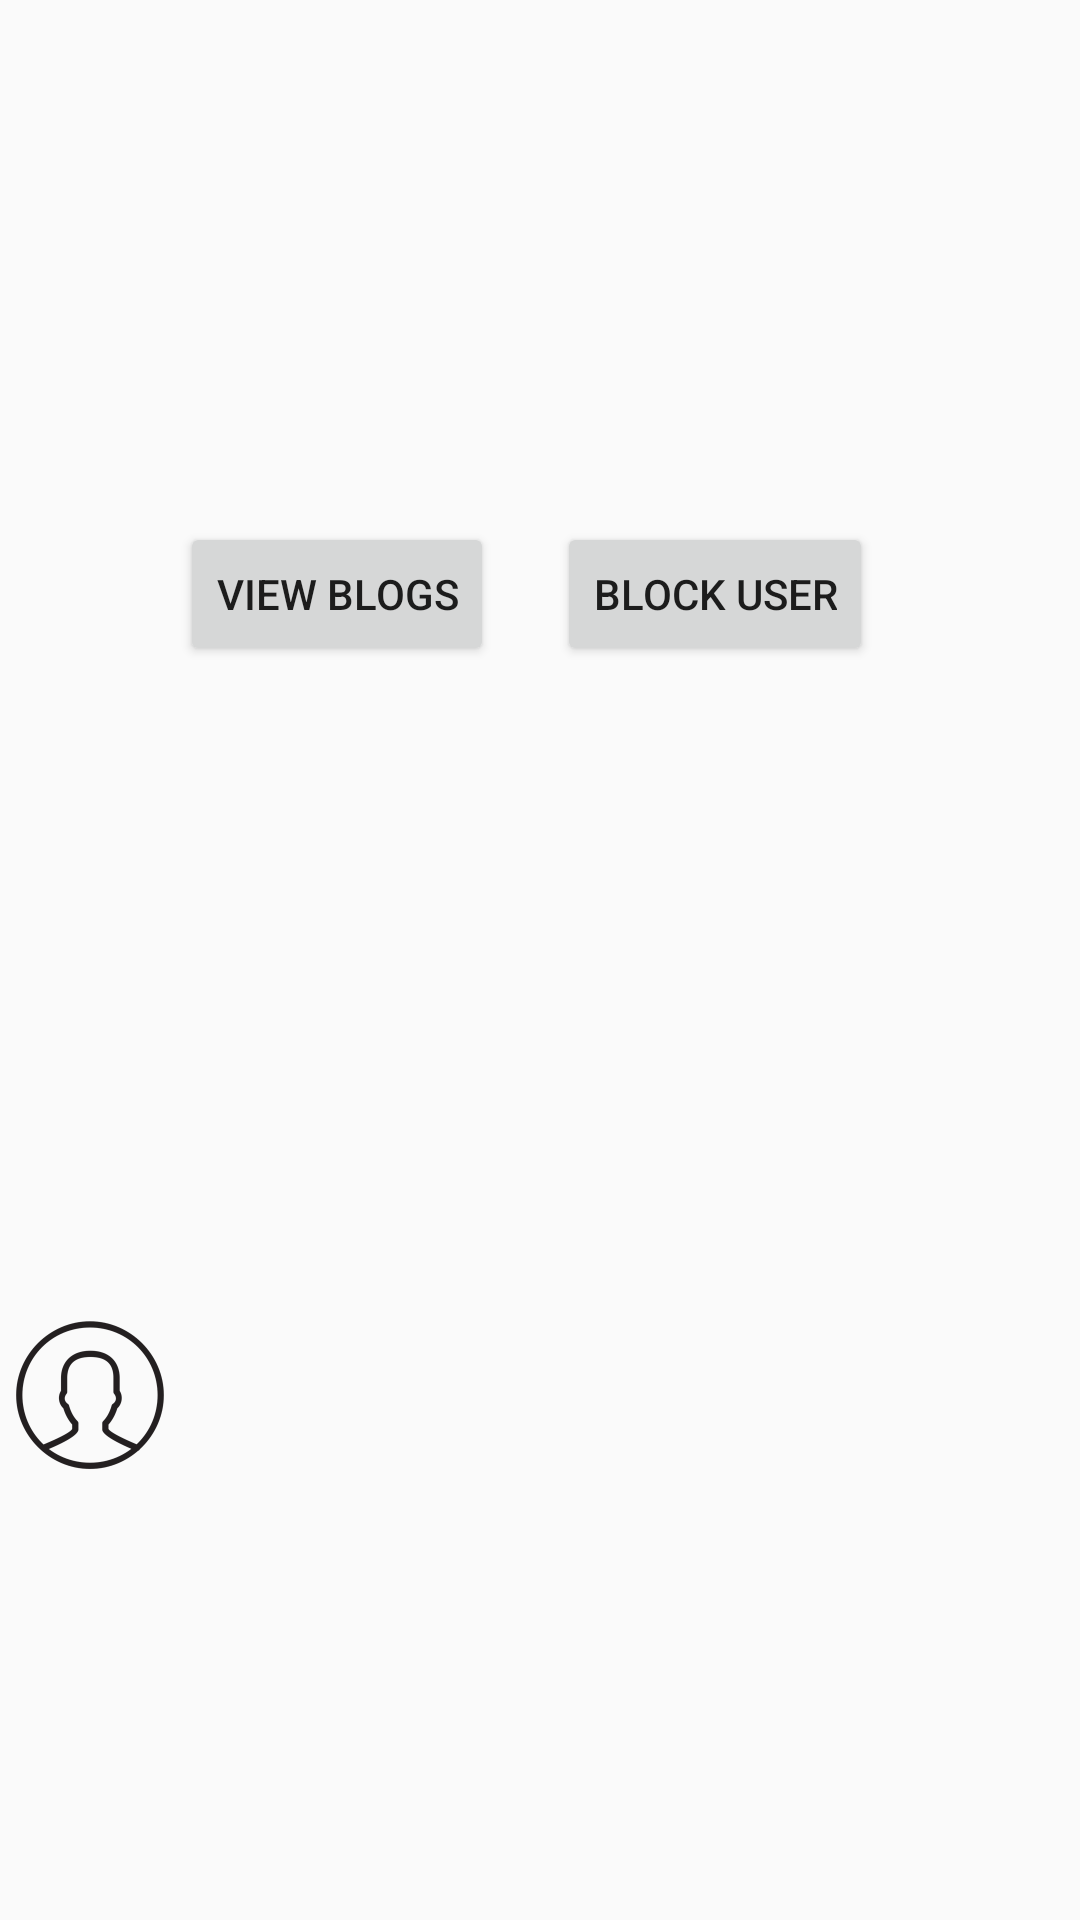

Named icons in this screenshot (1080×1920) and their bounding boxes, (x1, y1, x2, y2):
profile: (16, 1321, 164, 1469)
